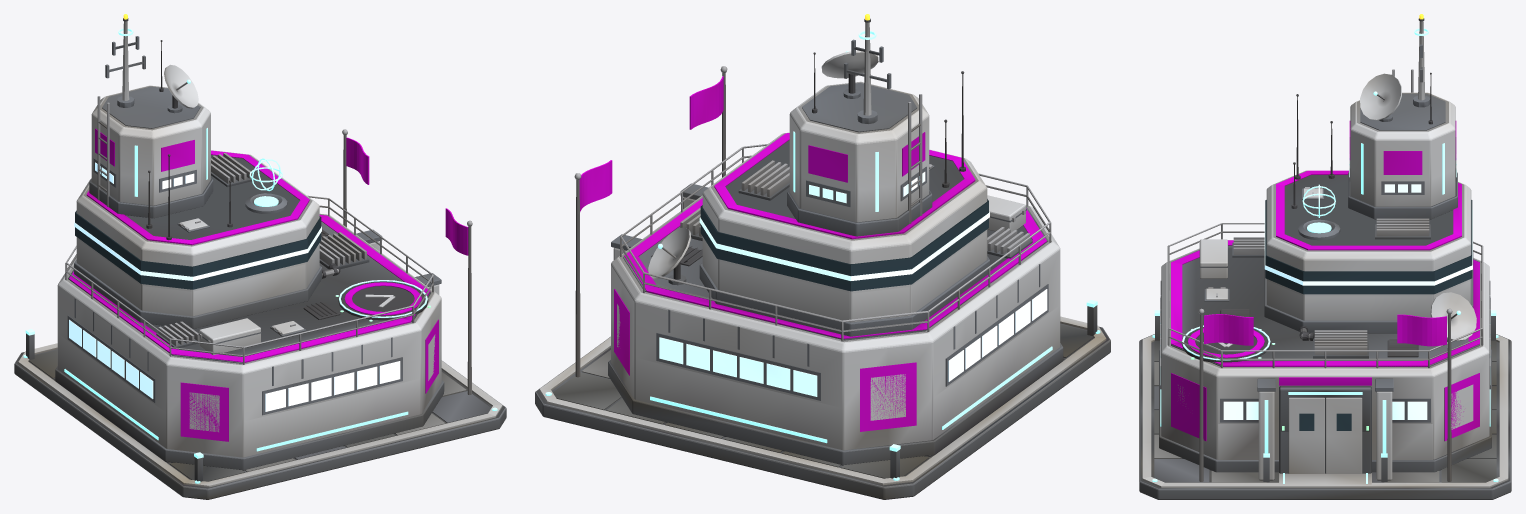
The model's file is command_center_future.glb.
3 renders of one model, left to right at view 1: azimuth 30°, elevation 25°; view 2: azimuth 150°, elevation 25°; view 3: azimuth 270°, elevation 25°, orthographic. The views are drawn at different scales.
Parts seen in each view (by area): view 1: Body; view 2: Body; view 3: Body.
Boxes of the visible parts, x1=… form: Body: x1=14, y1=14, x2=506, y2=499; Body: x1=535, y1=14, x2=1110, y2=499; Body: x1=1139, y1=14, x2=1511, y2=499.
Bounding box in the file's own units: 6 × 6.51 × 6.
Materials: 1 (1 with a texture image).
